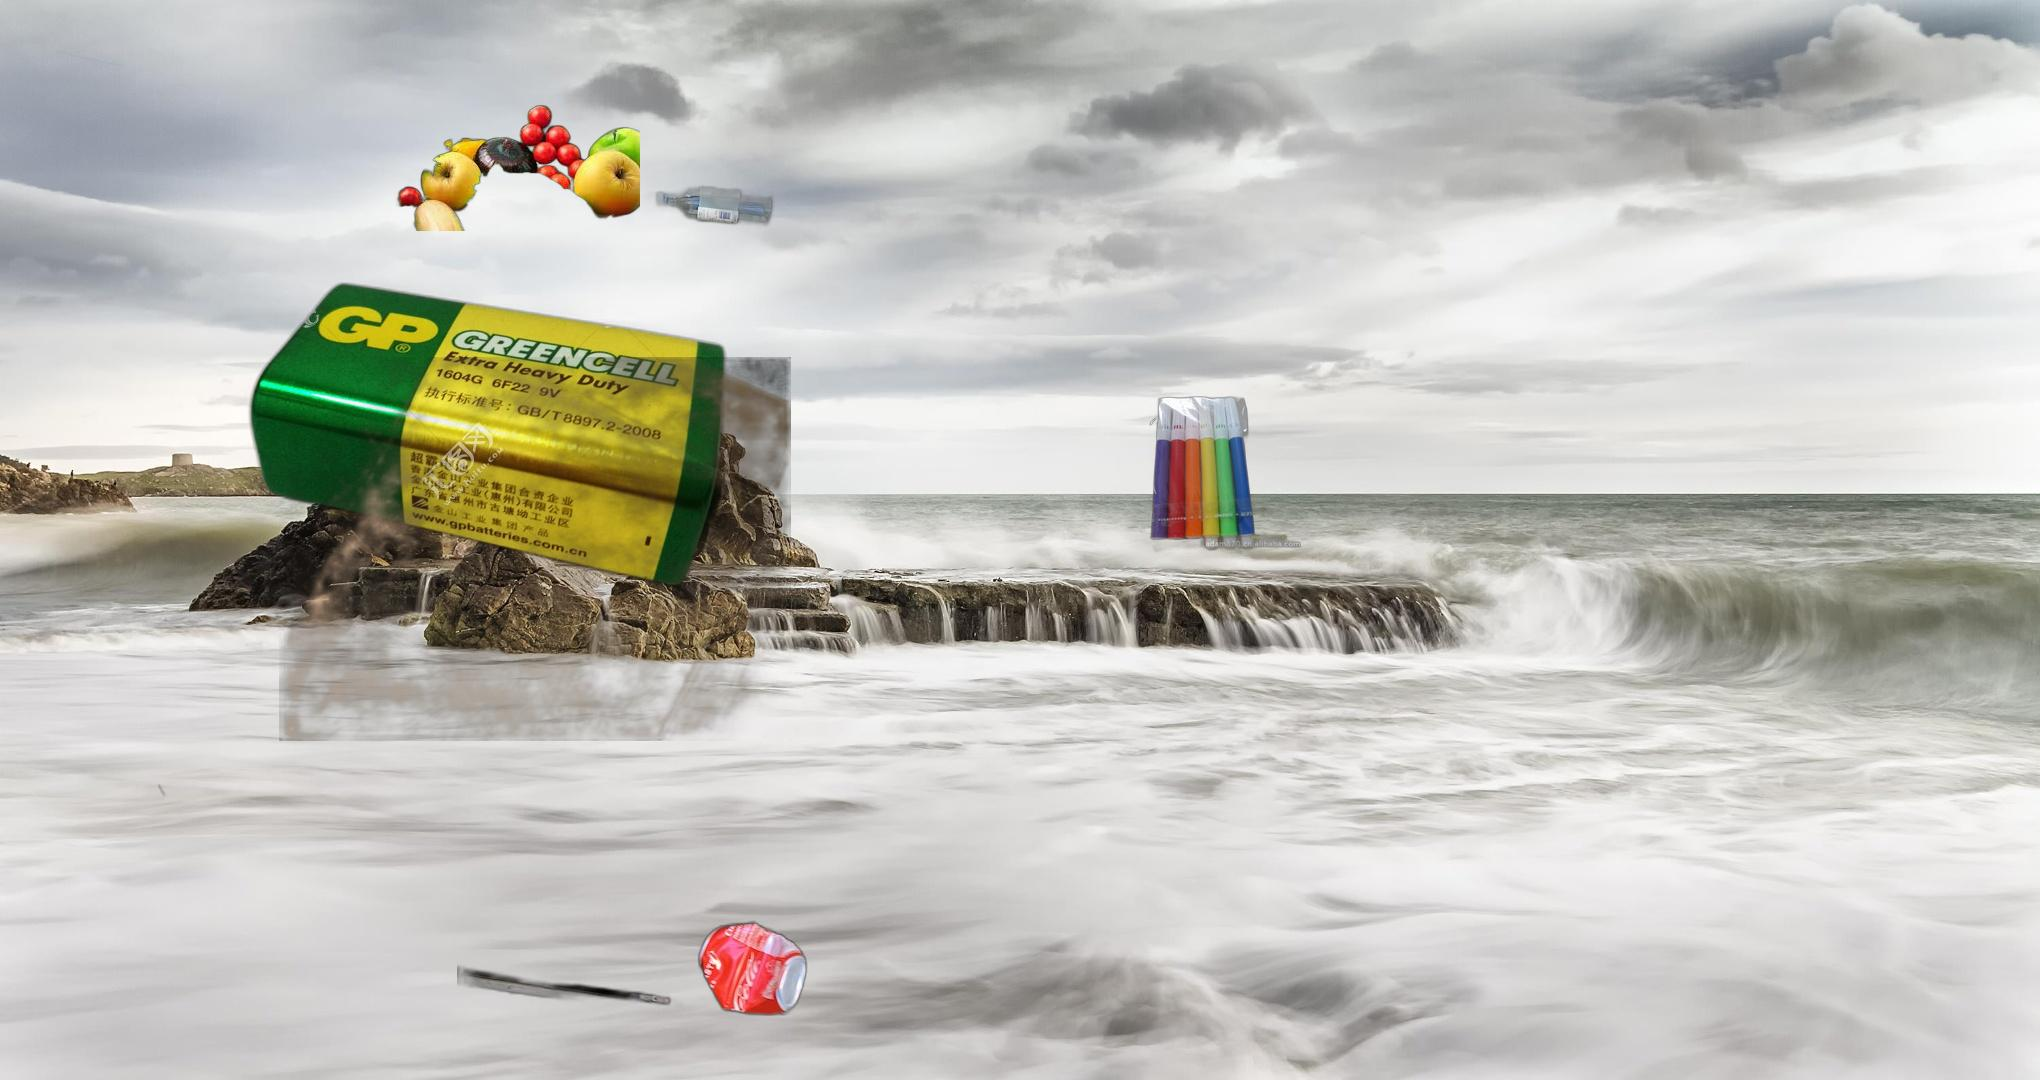battery: (242, 278, 746, 591)
biological: (379, 73, 640, 231)
glass: (641, 180, 777, 230)
metal-cans: (457, 840, 969, 1080)
penholder: (1137, 393, 1303, 553)
trashbox-cardboard: (279, 356, 791, 741)
